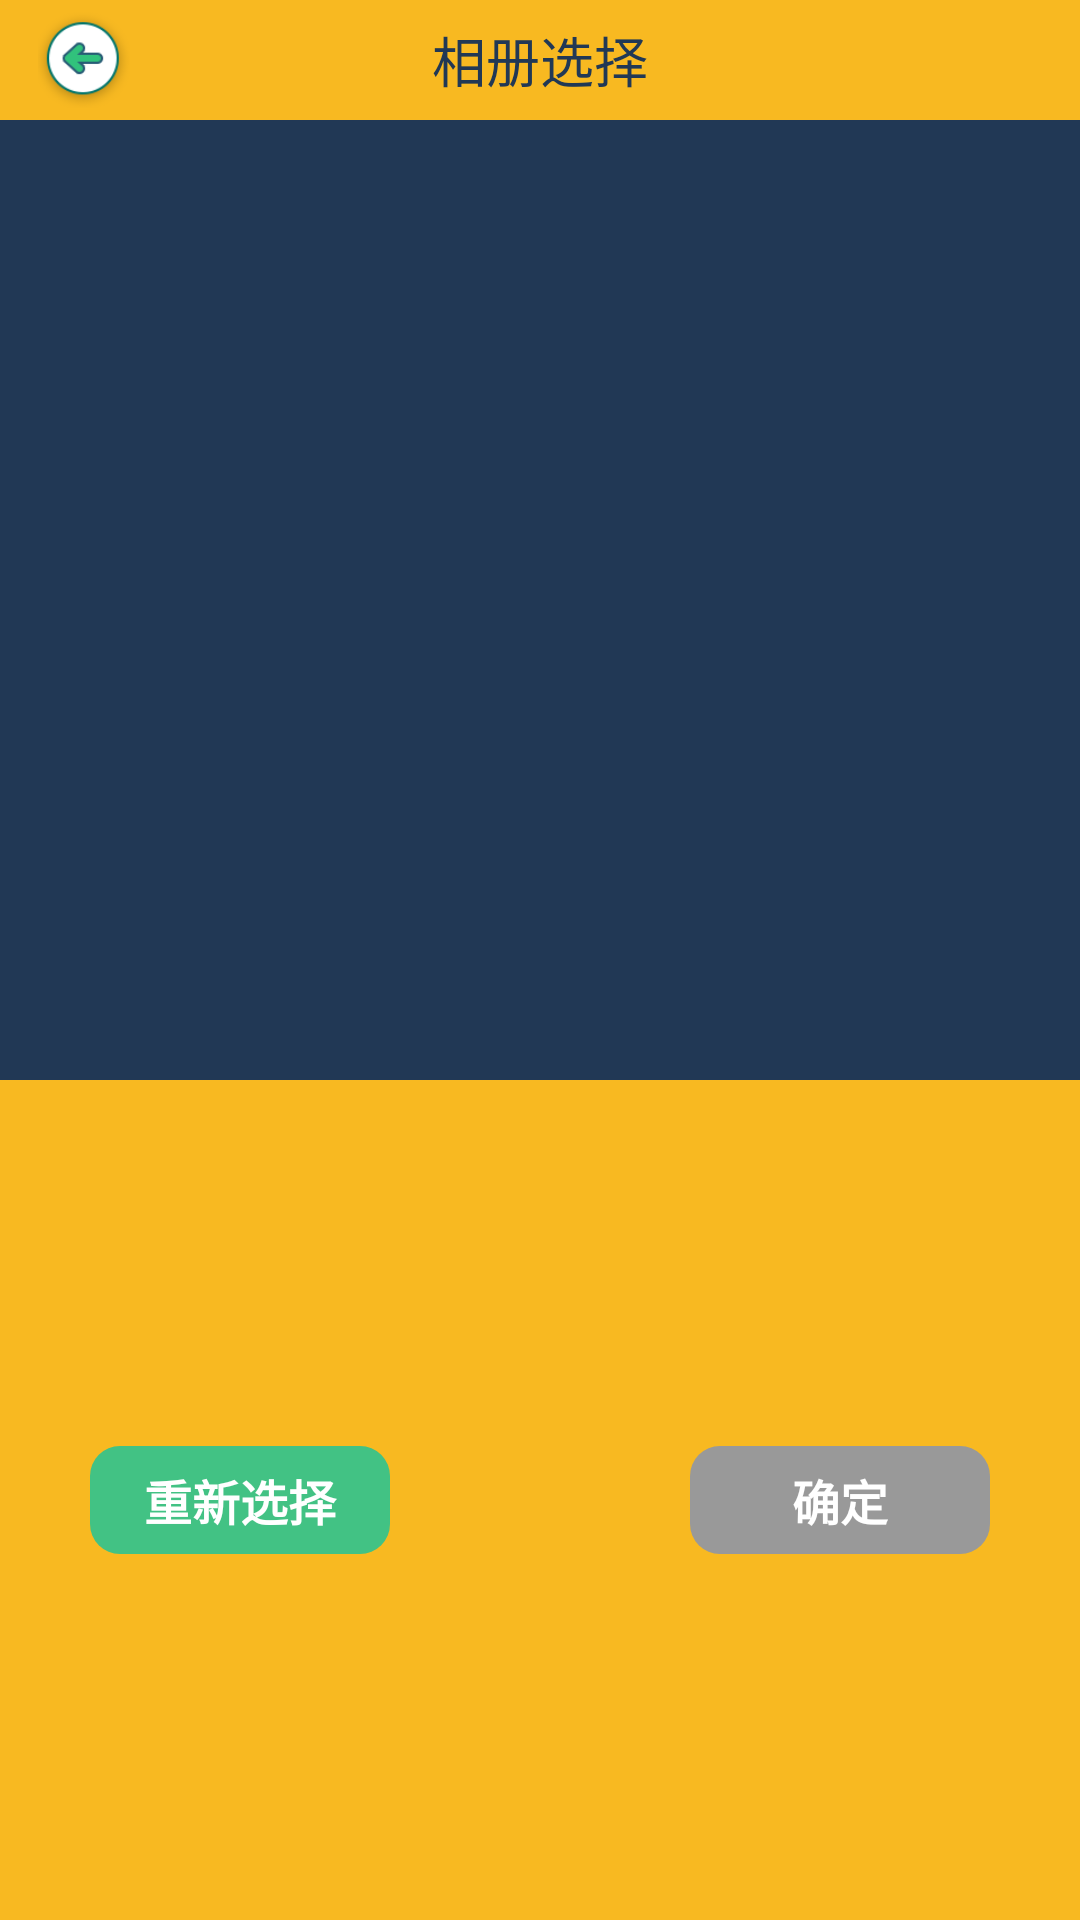

Screen size 1080px x 1920px. Icon name, then its center in pixels as [x,y]:
back: [83,60]
